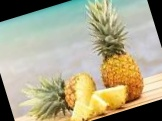Pineapple: (80, 1, 145, 102)
